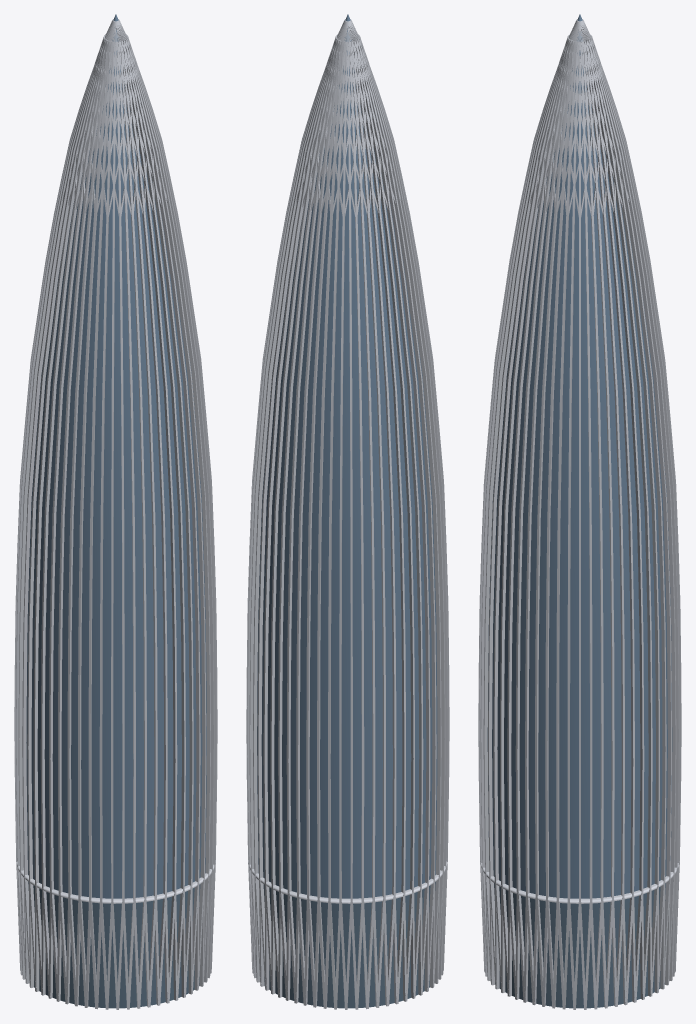
File: shenzhen-china-resources-tower.detail.glb
3 renders of one model, left to right at view 1: azimuth 30°, elevation 25°; view 2: azimuth 150°, elevation 25°; view 3: azimuth 270°, elevation 25°, orthographic.
Parts seen in each view (by area): view 1: China Resources Tower; view 2: China Resources Tower; view 3: China Resources Tower.
Part boxes in pixels (bbox=[...]): China Resources Tower: bbox=[14, 14, 217, 1009]; China Resources Tower: bbox=[246, 14, 449, 1009]; China Resources Tower: bbox=[478, 14, 681, 1009].
Bounding box in the file's own units: 75.72 × 393 × 75.72.
